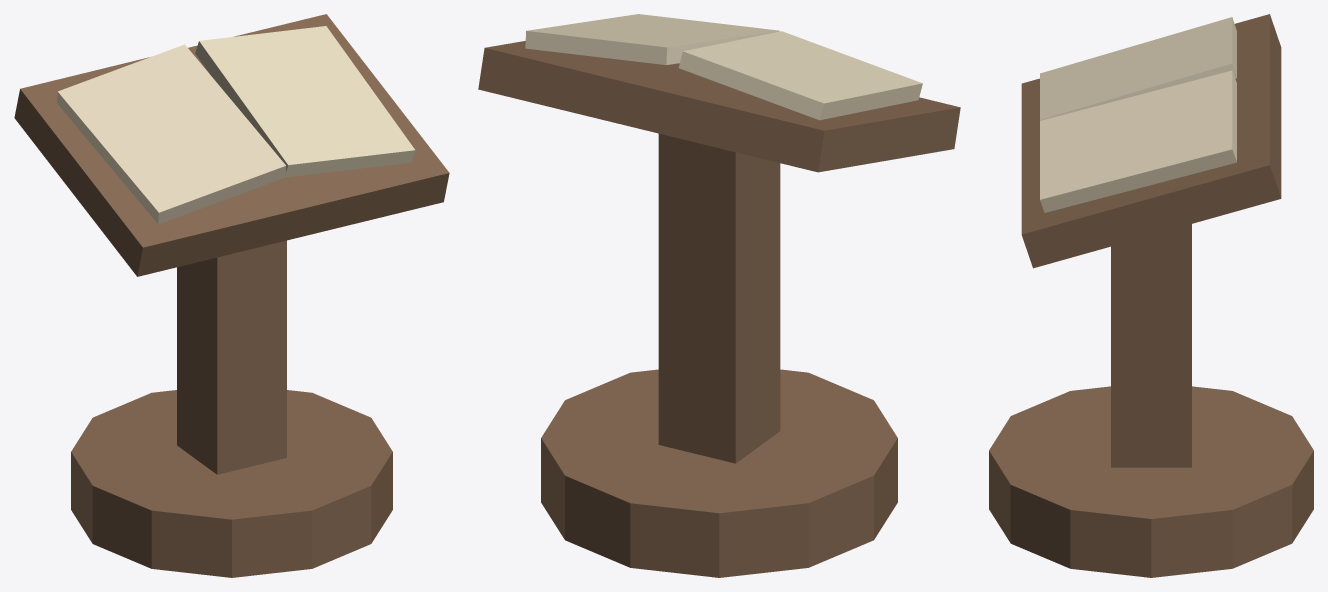
File: var_lectern.glb
3 renders of one model, left to right at view 1: azimuth 30°, elevation 25°; view 2: azimuth 150°, elevation 25°; view 3: azimuth 270°, elevation 25°, orthographic. The views are drawn at different scales.
Parts seen in each view (by area): view 1: var_lectern; view 2: var_lectern; view 3: var_lectern.
Part boxes in pixels (bbox=[...]): var_lectern: bbox=[14, 14, 449, 577]; var_lectern: bbox=[478, 14, 960, 577]; var_lectern: bbox=[989, 14, 1313, 577].
Size of the model in its own units: 1.1 by 1.5 by 1.
